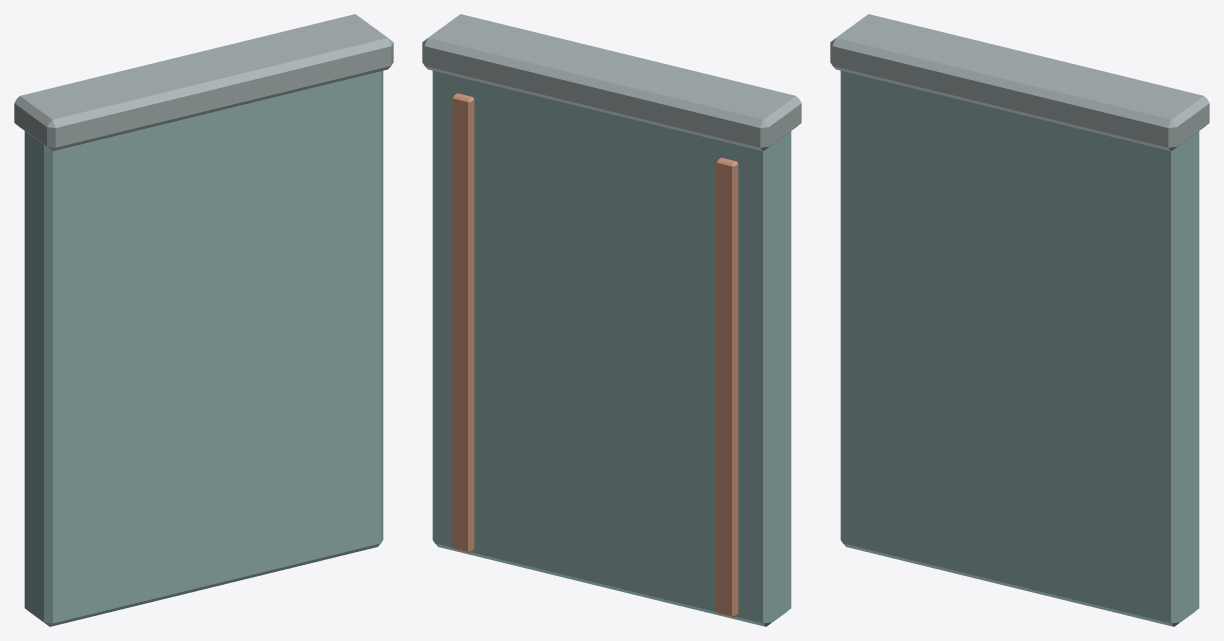
Rendered from wall_upper_1m.glb.
The picture shows the model from 3 angles, left to right: view 1: azimuth 30°, elevation 25°; view 2: azimuth 150°, elevation 25°; view 3: azimuth 330°, elevation 25°; orthographic projection.
Visible parts, largest first — view 1: wall_upper_1m; view 2: wall_upper_1m; view 3: wall_upper_1m.
Boxes of the visible parts, x1,y1,x2,y2 form: wall_upper_1m: (14,14,393,626); wall_upper_1m: (422,14,801,626); wall_upper_1m: (830,14,1209,626).
Size of the model in its own units: 0.92 by 1.3 by 0.18.
